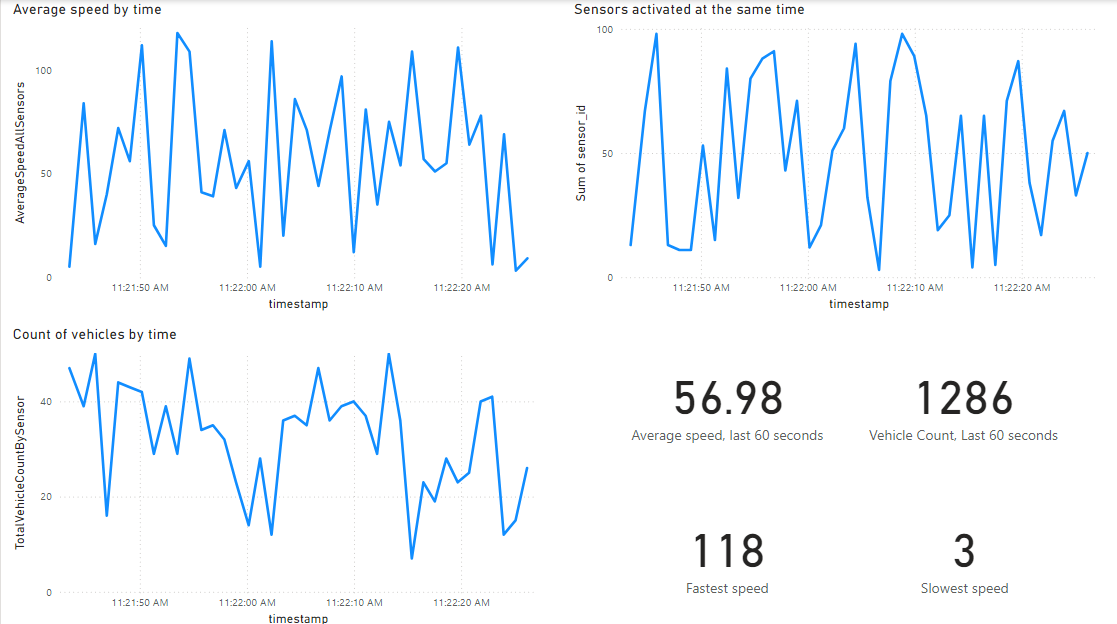

The page's visual inventory and layout, read from the dashboard file:
{"tool":"powerbi","page":{"name":"Page 1","canvas":[1280,720],"ordinal":0},"visuals":[{"type":"lineChart","title":"Average speed by time","fields":{"Y":["SensorData.AverageSpeedAllSensors"],"Category":["SensorData.timestamp"]},"box":[8.8,0,631.4,360.5],"z":0},{"type":"lineChart","title":"Count of vehicles by time","fields":{"Category":["SensorData.timestamp"],"Y":["SensorData.TotalVehicleCountBySensor"]},"box":[9,371,631,349],"z":1},{"type":"lineChart","title":"Sensors activated at the same time","fields":{"Category":["SensorData.timestamp"],"Y":["Sum(SensorData.sensor_id)"]},"box":[650,0,630,361],"z":2},{"type":"card","fields":{"Values":["SensorData.AverageSpeedLast60Seconds"]},"box":[696.5,371.1,269.1,174.1],"z":3},{"type":"card","fields":{"Values":["SensorData.VehicleCountLast60Seconds"]},"box":[965.5,371.1,269.1,174.1],"z":4},{"type":"card","fields":{"Values":["Max(SensorData.average_speed)"]},"box":[696.5,545.2,269.1,174.1],"z":5},{"type":"card","fields":{"Values":["Min(SensorData.average_speed)"]},"box":[967.3,545.2,269.1,174.1],"z":6}]}

Visuals, with their boxes in screenshot pixels (x1, y1, x2, y2), scaled from the page's 1280x720 canvas onto the 1117x624 screenshot:
"Average speed by time" lineChart: (8,0,559,312)
"Count of vehicles by time" lineChart: (8,322,558,623)
"Sensors activated at the same time" lineChart: (567,0,1116,313)
card - SensorData.AverageSpeedLast60Seconds: (608,322,843,473)
card - SensorData.VehicleCountLast60Seconds: (843,322,1077,473)
card - Max(SensorData.average_speed): (608,473,843,623)
card - Min(SensorData.average_speed): (844,473,1079,623)
